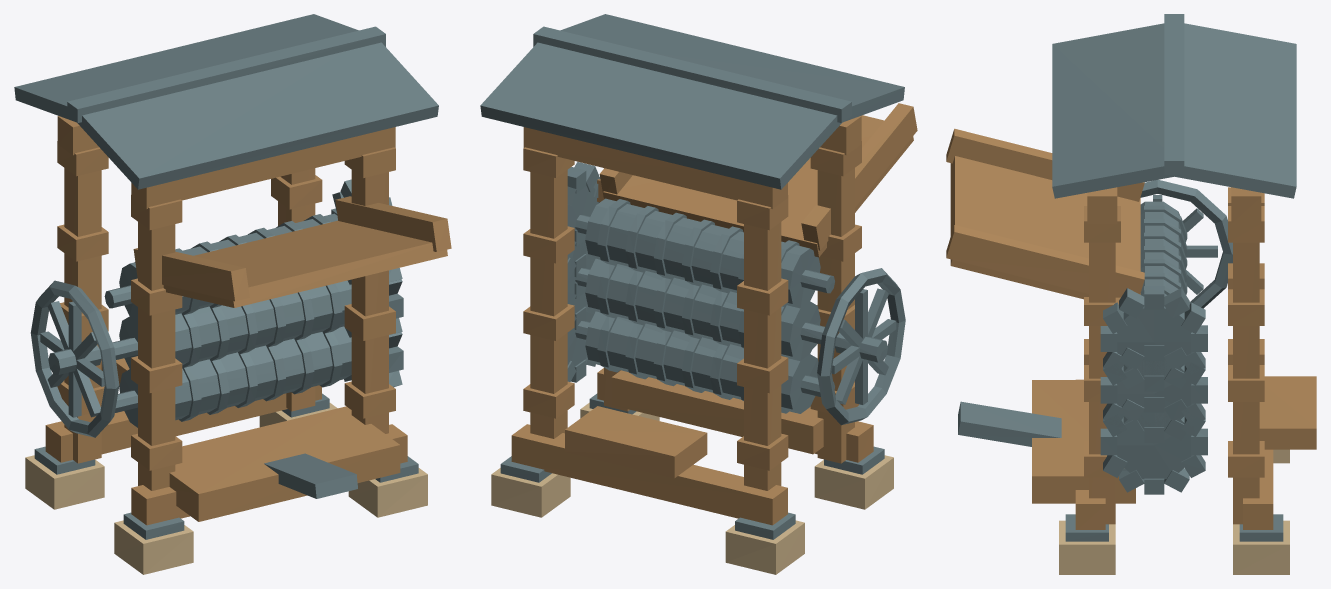
Rendered from Sugar-Mill.glb.
3 views of the same model, side by side, from view 1: azimuth 30°, elevation 25°; view 2: azimuth 150°, elevation 25°; view 3: azimuth 270°, elevation 25° (orthographic). The views are drawn at different scales.
Parts seen in each view (by area): view 1: sugar-mill-static-sugar-mill-pale-galvanized-mat, sugar-mill-static-sugar-mill-warm-timber-mat, sugar-mill-static-sugar-mill-dark-iron-mat, sugar-mill-static-sugar-mill-muted-teal-fixture-mat, sugar-mill-static-sugar-mill-warm-stone-foot-mat; view 2: sugar-mill-static-sugar-mill-warm-timber-mat, sugar-mill-static-sugar-mill-pale-galvanized-mat, sugar-mill-static-sugar-mill-dark-iron-mat, sugar-mill-static-sugar-mill-muted-teal-fixture-mat, sugar-mill-static-sugar-mill-warm-stone-foot-mat; view 3: sugar-mill-static-sugar-mill-pale-galvanized-mat, sugar-mill-static-sugar-mill-warm-timber-mat, sugar-mill-static-sugar-mill-dark-iron-mat, sugar-mill-static-sugar-mill-muted-teal-fixture-mat, sugar-mill-static-sugar-mill-warm-stone-foot-mat.
Part boxes in pixels (box(x1,y1,x2,y2)): sugar-mill-static-sugar-mill-pale-galvanized-mat: box(14, 14, 438, 498); sugar-mill-static-sugar-mill-warm-timber-mat: box(45, 116, 451, 525); sugar-mill-static-sugar-mill-dark-iron-mat: box(30, 26, 418, 539); sugar-mill-static-sugar-mill-muted-teal-fixture-mat: box(57, 141, 400, 521); sugar-mill-static-sugar-mill-warm-stone-foot-mat: box(25, 403, 427, 574); sugar-mill-static-sugar-mill-warm-timber-mat: box(511, 103, 917, 525); sugar-mill-static-sugar-mill-pale-galvanized-mat: box(480, 14, 904, 413); sugar-mill-static-sugar-mill-dark-iron-mat: box(500, 26, 905, 539); sugar-mill-static-sugar-mill-muted-teal-fixture-mat: box(523, 141, 861, 470); sugar-mill-static-sugar-mill-warm-stone-foot-mat: box(491, 402, 893, 574); sugar-mill-static-sugar-mill-pale-galvanized-mat: box(958, 23, 1296, 446); sugar-mill-static-sugar-mill-warm-timber-mat: box(946, 128, 1316, 529); sugar-mill-static-sugar-mill-dark-iron-mat: box(1065, 14, 1283, 541); sugar-mill-static-sugar-mill-muted-teal-fixture-mat: box(1032, 187, 1264, 503); sugar-mill-static-sugar-mill-warm-stone-foot-mat: box(1059, 449, 1289, 574).
Bounding box in the file's own units: 2.26 × 2.77 × 2.21.
